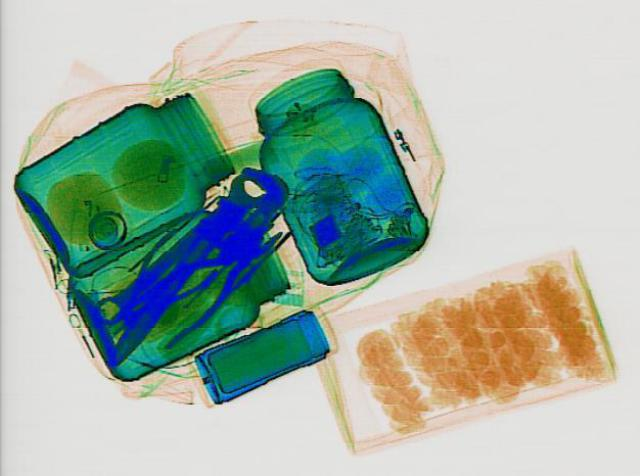Pliers: (128, 213, 300, 349)
Wrench: (76, 163, 284, 329)
